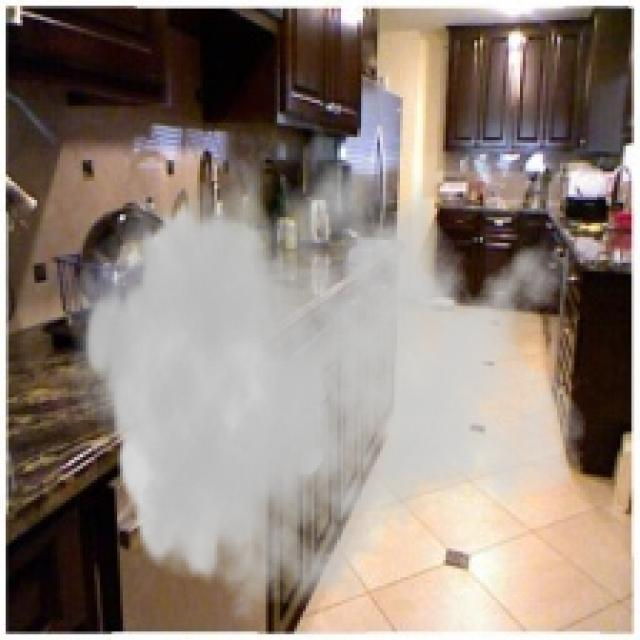Smoke: (66, 99, 588, 632)
